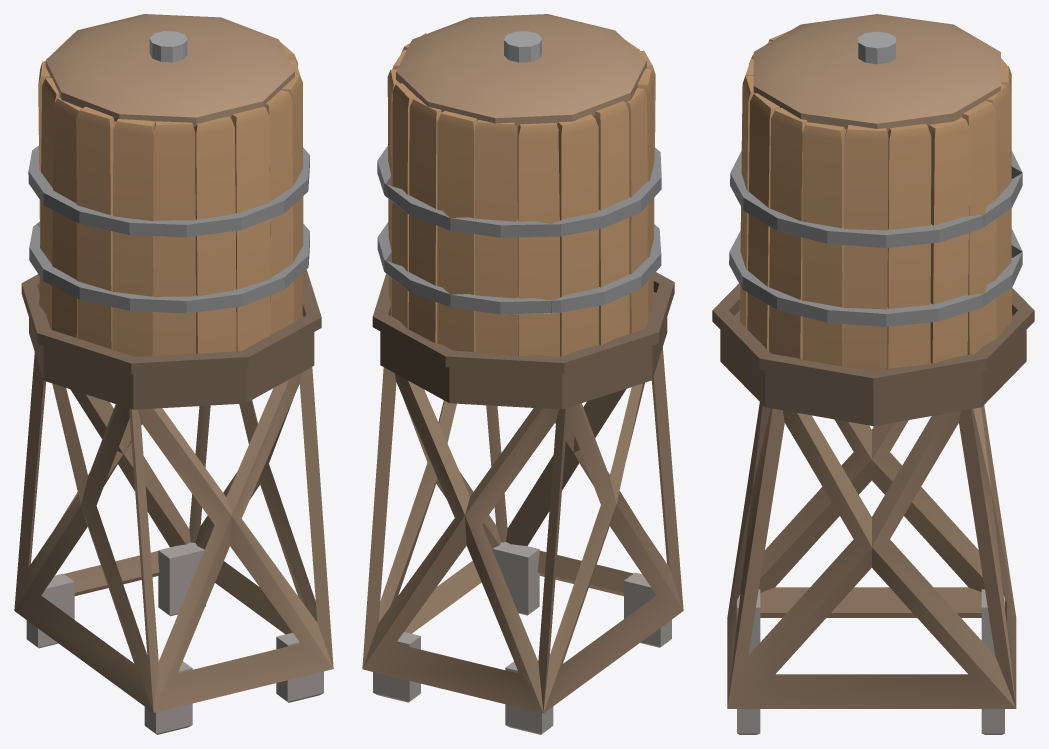
Rendered from watertoren.fbx.
3 views of the same model, side by side, from view 1: azimuth 30°, elevation 25°; view 2: azimuth 150°, elevation 25°; view 3: azimuth 270°, elevation 25° (orthographic). The views are drawn at different scales.
Parts seen in each view (by area): view 1: Cube.004; view 2: Cube.004; view 3: Cube.004.
Boxes of the visible parts, <box> form: Cube.004: <box>14,14,333,734</box>; Cube.004: <box>362,14,683,734</box>; Cube.004: <box>712,14,1034,734</box>.
Size of the model in its own units: 3.13 by 6.98 by 3.13.
